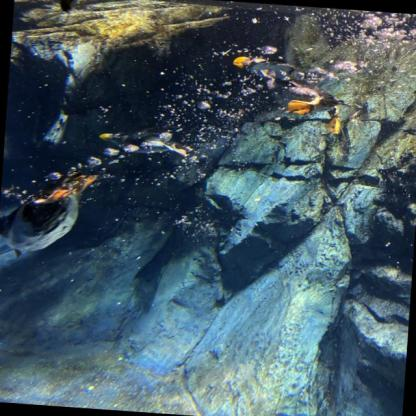puffin: (224, 48, 366, 136), (0, 162, 101, 261), (94, 126, 195, 159)
